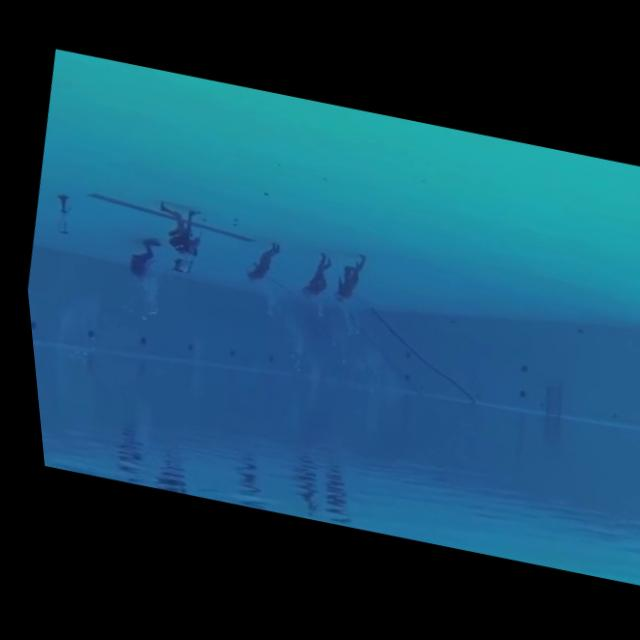human: (135, 196, 213, 280), (312, 241, 373, 319), (231, 226, 292, 296), (284, 239, 338, 313), (111, 228, 166, 298)
